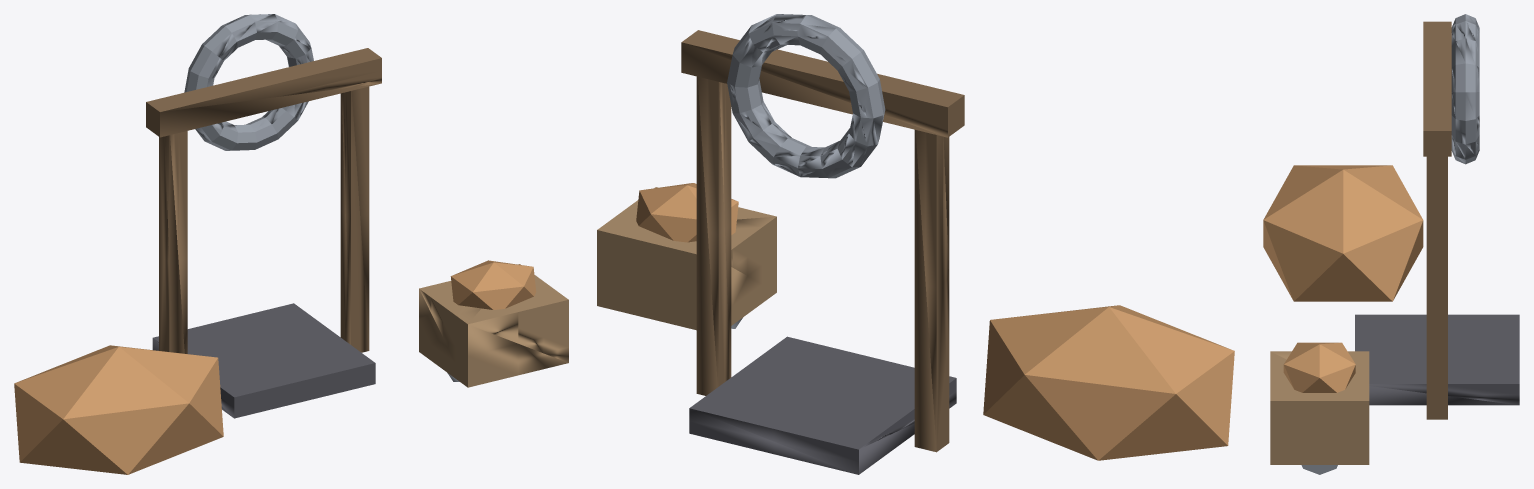
Rendered from iron_mine.glb.
The picture shows the model from 3 angles, left to right: view 1: azimuth 30°, elevation 25°; view 2: azimuth 150°, elevation 25°; view 3: azimuth 270°, elevation 25°; orthographic projection. The views are drawn at different scales.
Parts seen in each view (by area): view 1: IronMineLegL; view 2: IronMineLegL; view 3: IronMineLegL.
Boxes of the visible parts, x1,y1,x2,y2 form: IronMineLegL: (14,14,568,474); IronMineLegL: (597,14,1234,474); IronMineLegL: (1263,14,1519,474).
Size of the model in its own units: 2.54 by 1.74 by 1.09.
